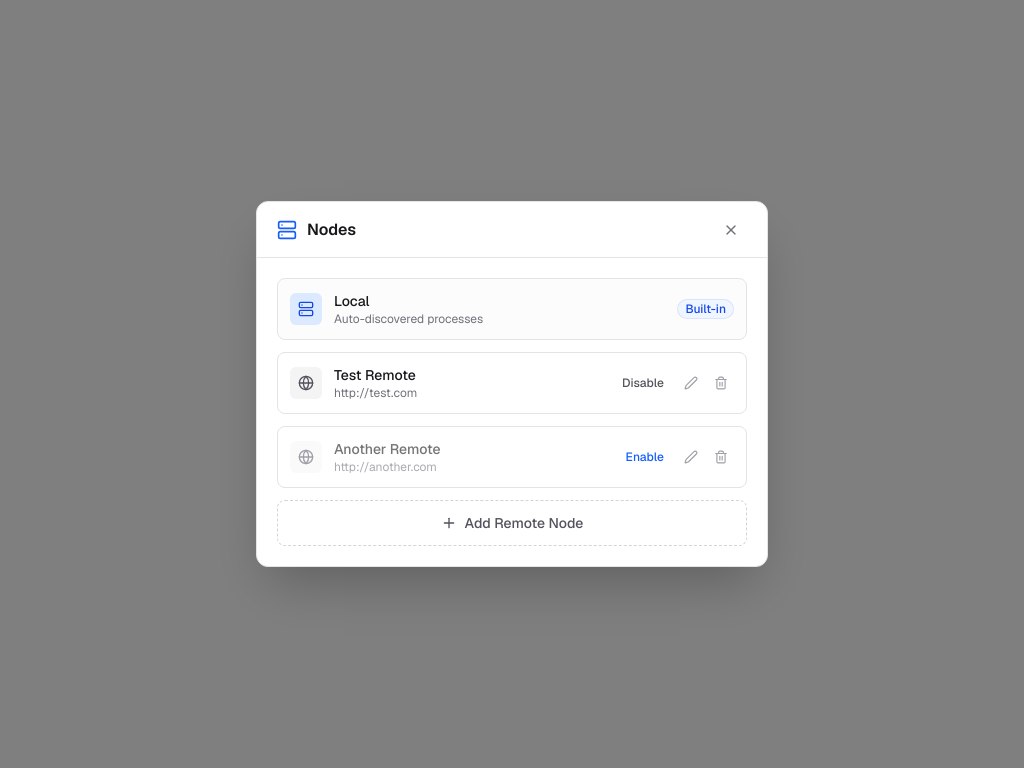
Test case: HostManagerDialog › shows mutation errors when delete action fails
Click the button named "delete node" in the row of "http://test.com" at (721, 383), box [708,370,734,396]
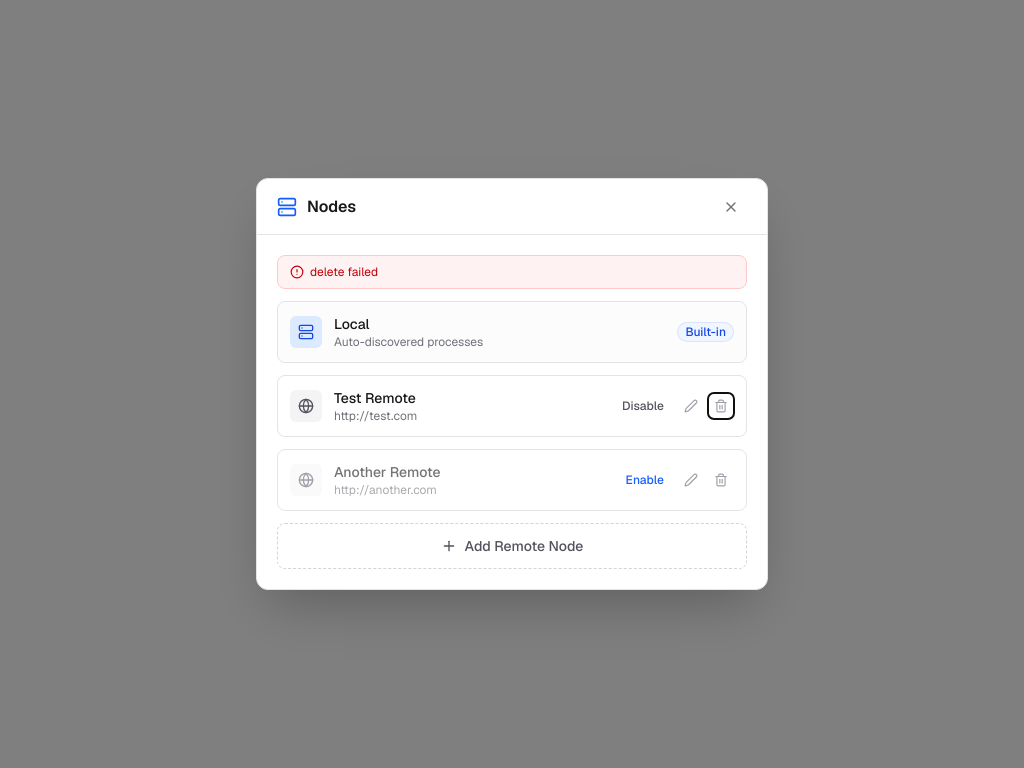
Now the text "delete failed" is shown, box [310,264,378,280]
